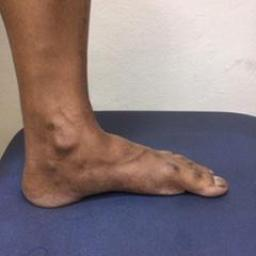Medial View -Left Foot-: (15, 102, 239, 220)
